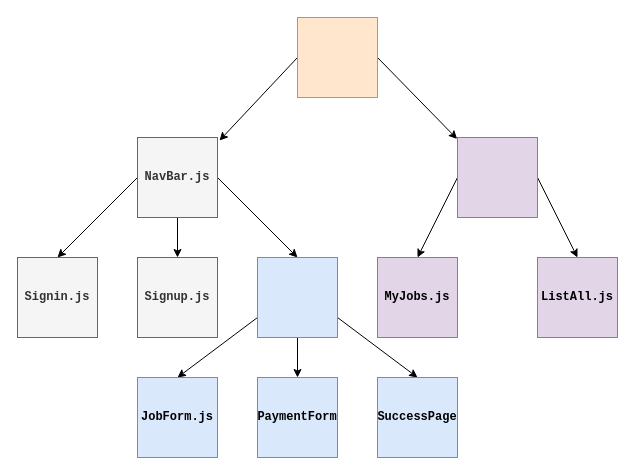
Image size: 635x475. Some labels were removed from this diagram. Each missing label, with the centre of its shape:
App.js: point 337,57
Dashboard.js: point 497,177
PostJob.js: point 297,297
